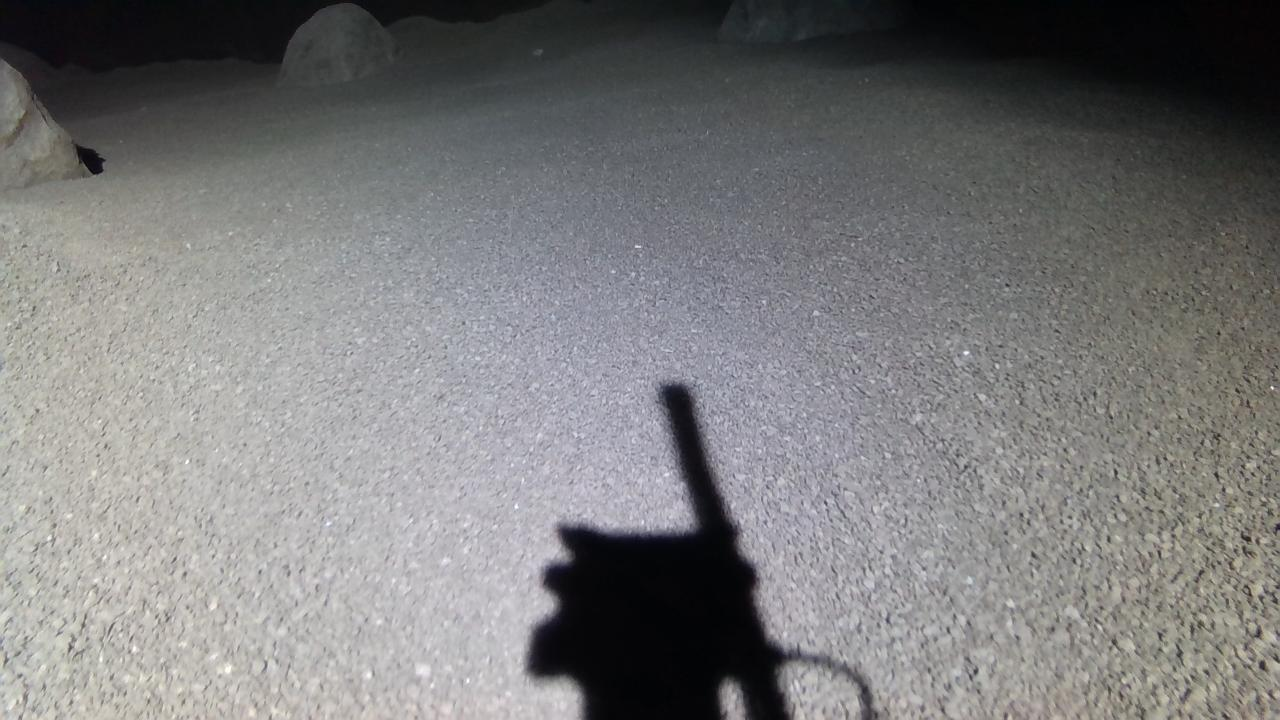rock: (0, 57, 89, 185), (277, 2, 397, 84), (719, 0, 910, 40)
